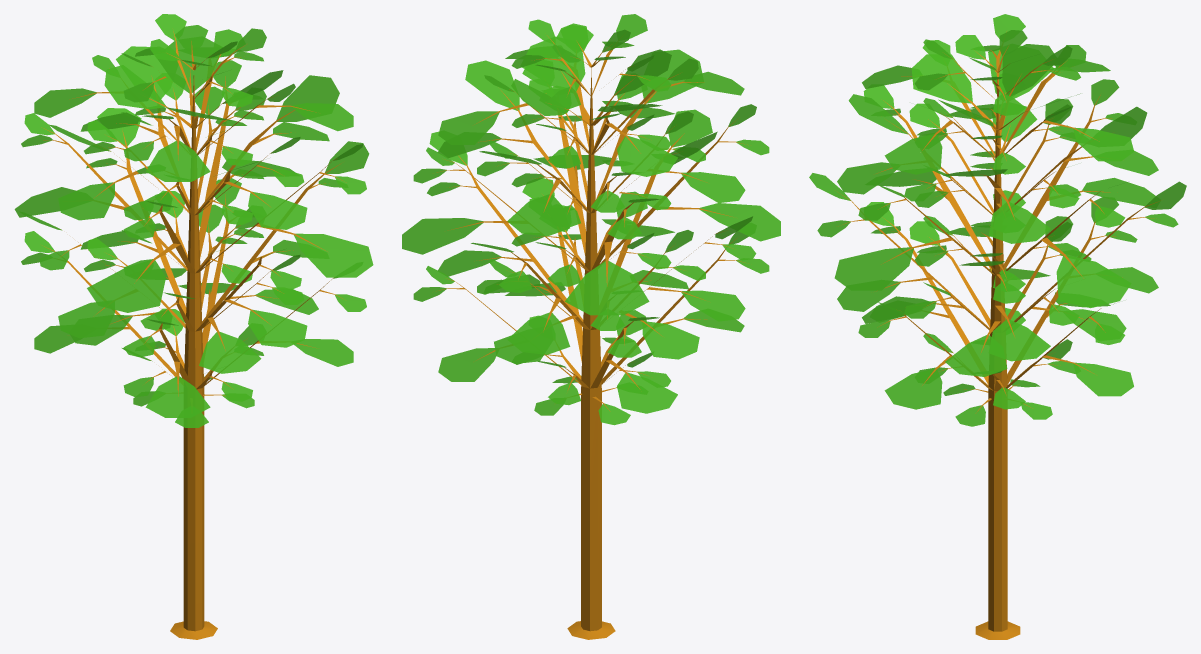
The model's file is tree.fbx.
3 views of the same model, side by side, from view 1: azimuth 30°, elevation 25°; view 2: azimuth 150°, elevation 25°; view 3: azimuth 270°, elevation 25° (orthographic).
Visible parts, largest first — view 1: BLAD, TAKSTAM; view 2: BLAD, TAKSTAM; view 3: BLAD, TAKSTAM.
Part boxes in pixels (<box>): BLAD: <box>14,14,373,427</box>; TAKSTAM: <box>41,31,346,639</box>; BLAD: <box>402,14,780,425</box>; TAKSTAM: <box>436,35,748,639</box>; BLAD: <box>809,14,1186,426</box>; TAKSTAM: <box>838,31,1160,639</box>.
Bounding box in the file's own units: 7404 × 12649 × 7404.
